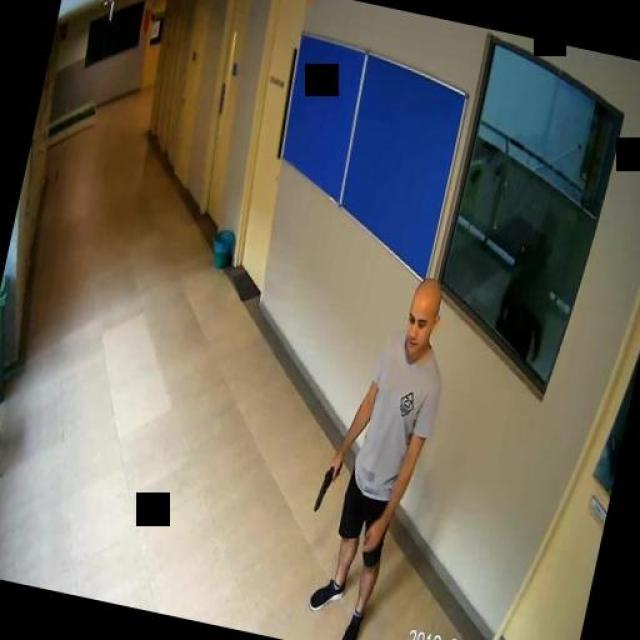gun: (313, 455, 342, 513)
